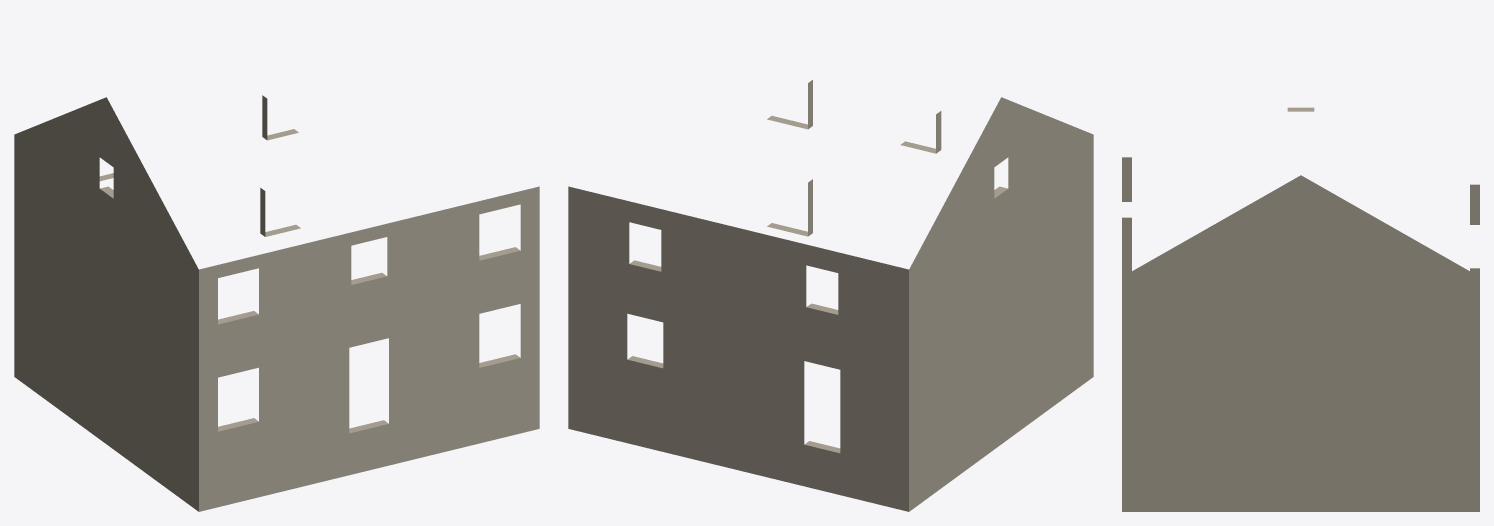
The model's file is SM_Bld_097_Render.glb.
The picture shows the model from 3 angles, left to right: view 1: azimuth 30°, elevation 25°; view 2: azimuth 150°, elevation 25°; view 3: azimuth 270°, elevation 25°; orthographic projection. The views are drawn at different scales.
Visible parts, largest first — view 1: SM_Bld_097_Render; view 2: SM_Bld_097_Render; view 3: SM_Bld_097_Render.
Boxes of the visible parts, x1=… form: SM_Bld_097_Render: x1=14, y1=95, x2=539, y2=511; SM_Bld_097_Render: x1=568, y1=80, x2=1093, y2=511; SM_Bld_097_Render: x1=1122, y1=107, x2=1479, y2=511.
Bounding box in the file's own units: 8.53 × 8.31 × 8.
